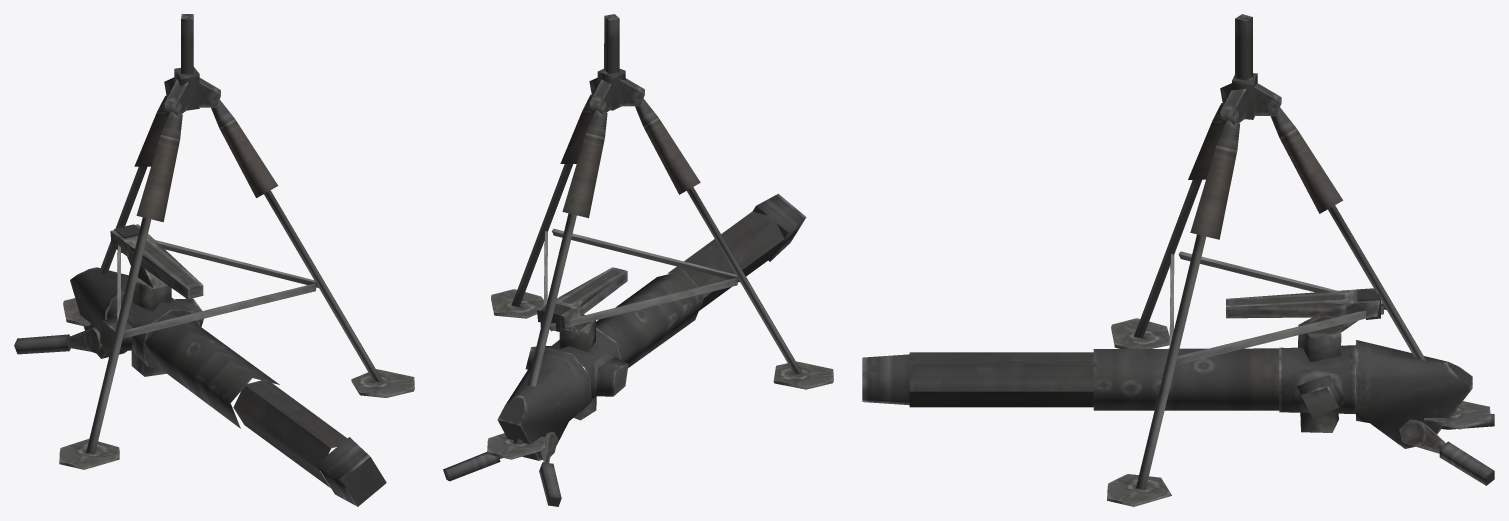
The model's file is markii.far.glb.
3 views of the same model, side by side, from view 1: azimuth 30°, elevation 25°; view 2: azimuth 150°, elevation 25°; view 3: azimuth 270°, elevation 25° (orthographic). The views are drawn at different scales.
Size of the model in its own units: 0.9289 by 1.02 by 1.34.
Materials: 1 (1 with a texture image).
